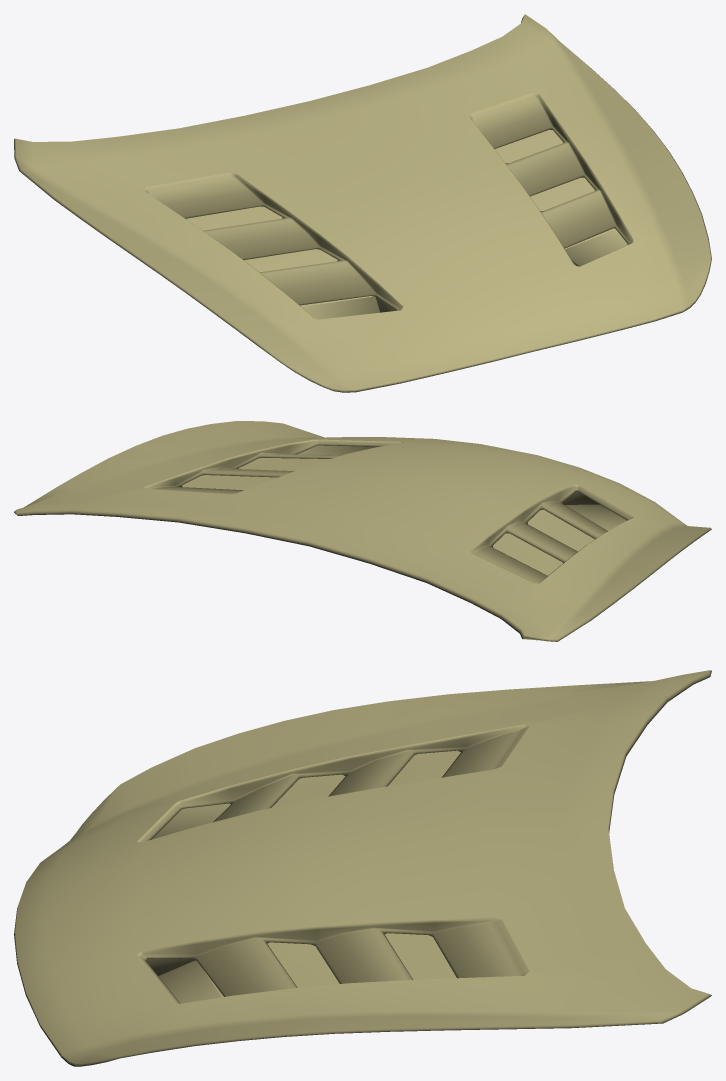
Rendered from G37_Hood_05_Duco.fbx.
The picture shows the model from 3 angles, top to bottom: view 1: azimuth 30°, elevation 25°; view 2: azimuth 150°, elevation 25°; view 3: azimuth 270°, elevation 25°; orthographic projection. The views are drawn at different scales.
Parts seen in each view (by area): view 1: G37_Hood_05_Duco; view 2: G37_Hood_05_Duco; view 3: G37_Hood_05_Duco.
Boxes of the visible parts, x1,y1,x2,y2 form: G37_Hood_05_Duco: (14,14,711,392); G37_Hood_05_Duco: (14,421,711,641); G37_Hood_05_Duco: (14,670,711,1066).
Bounding box in the file's own units: 150 × 26.09 × 130.
